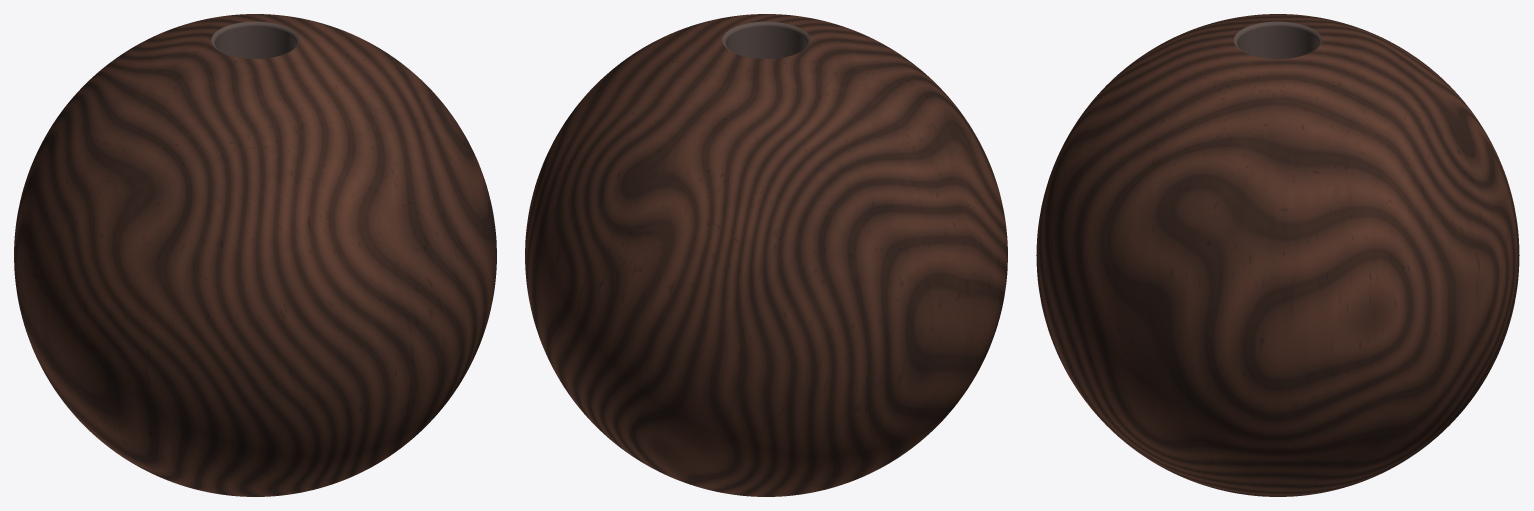
File: wood-tengxiang-reference-6mm.glb
3 views of the same model, side by side, from view 1: azimuth 30°, elevation 25°; view 2: azimuth 150°, elevation 25°; view 3: azimuth 270°, elevation 25° (orthographic).
Parts seen in each view (by area): view 1: tengxiang-reference; view 2: tengxiang-reference; view 3: tengxiang-reference.
Boxes of the visible parts, box(x1,y1,x2,y2) form: tengxiang-reference: box(14, 14, 496, 496); tengxiang-reference: box(525, 14, 1007, 496); tengxiang-reference: box(1036, 14, 1519, 496).
Bounding box in the file's own units: 0.006 × 0.0059 × 0.006.
Materials: 2 (1 with a texture image).
